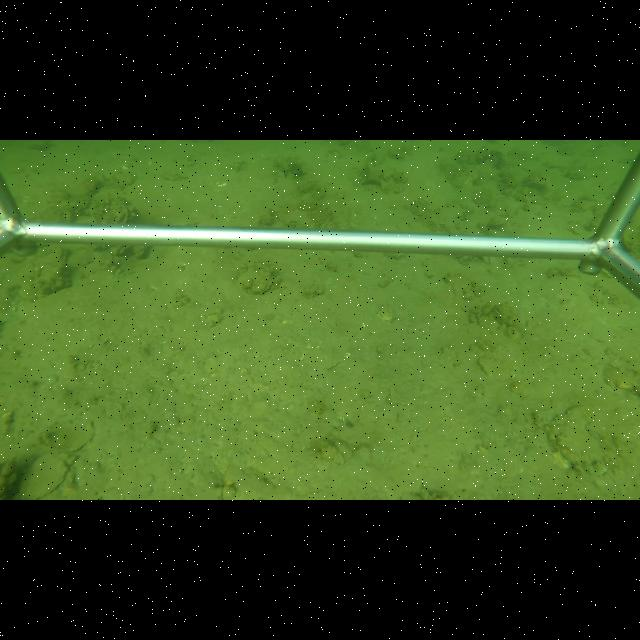Oyster-Closed: (238, 266, 276, 298)
